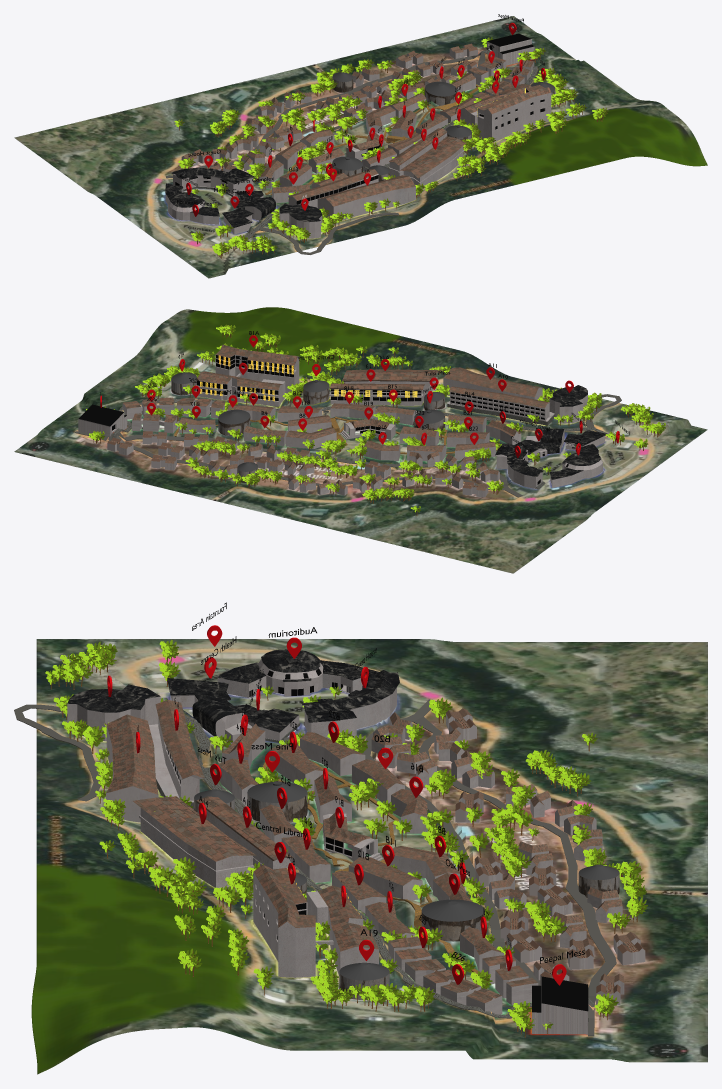
3 renders of one model, top to bottom at view 1: azimuth 30°, elevation 25°; view 2: azimuth 150°, elevation 25°; view 3: azimuth 270°, elevation 25°, orthographic. The views are drawn at different scales.
Visible parts, largest first — view 1: Dharti, A17+A18, A13 + A14, A11, Road, Guest House, Auditorium, A10, A9, Peepal Mess, Plane, Oak Mess (+10 smaller); view 2: Dharti, A17+A18, A13 + A14, A10, Road, A11, Auditorium, Guest House, Peepal Mess, A9, Plane, B19 (+22 smaller); view 3: Dharti, A17+A18, Road, A13 + A14, Auditorium, A11, Guest House, A10, A9, Plane, Peepal Mess, Oak Mess (+27 smaller).
Part boxes in pixels (x1,y1,x2,y2): Dharti: [14, 16, 707, 278]; A17+A18: [460, 84, 551, 142]; A13 + A14: [388, 128, 465, 189]; A11: [317, 175, 415, 220]; Road: [166, 50, 537, 254]; Guest House: [170, 167, 255, 196]; Auditorium: [165, 183, 219, 224]; A10: [288, 169, 378, 207]; A9: [279, 203, 322, 238]; Peepal Mess: [486, 33, 534, 65]; Plane: [235, 191, 276, 220]; Oak Mess: [425, 81, 457, 105]; Dharti: [14, 307, 707, 573]; A17+A18: [196, 344, 299, 406]; A13 + A14: [329, 369, 442, 405]; A10: [447, 386, 555, 425]; Road: [74, 394, 621, 497]; A11: [443, 367, 542, 399]; Auditorium: [550, 443, 602, 487]; Guest House: [495, 443, 545, 489]; Peepal Mess: [78, 404, 127, 436]; A9: [549, 385, 587, 423]; Plane: [514, 428, 564, 460]; B19: [340, 418, 395, 439]; Dharti: [31, 639, 707, 1074]; A17+A18: [253, 864, 378, 977]; Road: [14, 699, 616, 1036]; A13 + A14: [133, 796, 293, 887]; Auditorium: [216, 649, 378, 697]; A11: [106, 714, 158, 822]; Guest House: [301, 670, 399, 739]; A10: [149, 699, 204, 808]; A9: [67, 684, 160, 741]; Plane: [192, 697, 300, 742]; Peepal Mess: [532, 976, 588, 1034]; Oak Mess: [421, 899, 484, 941].
Size of the model in its own units: 627 by 82.52 by 436.
Materials: 15 (7 with a texture image).
